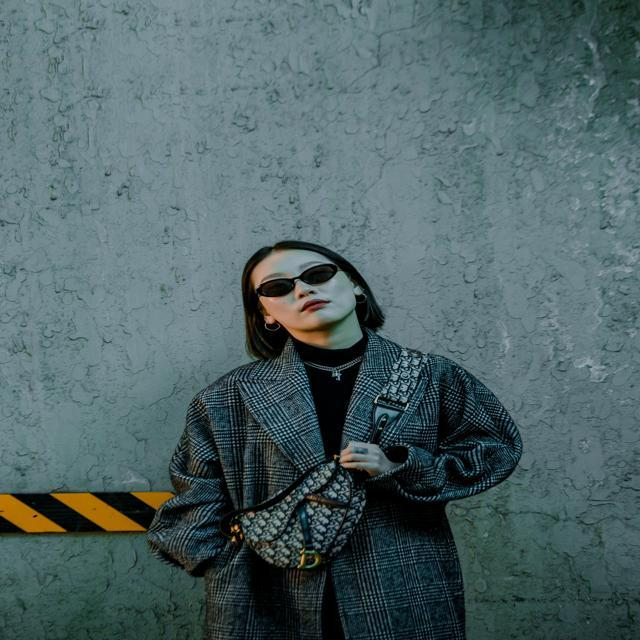2_gafas: (254, 262, 342, 298)
